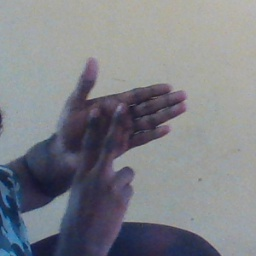N: (50, 52, 193, 211)
